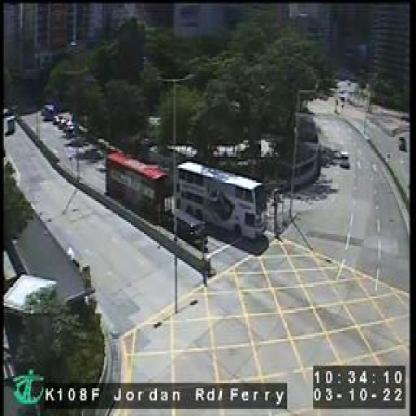Bus: (176, 163, 262, 237), (104, 154, 169, 226)
Car: (170, 210, 204, 248)
